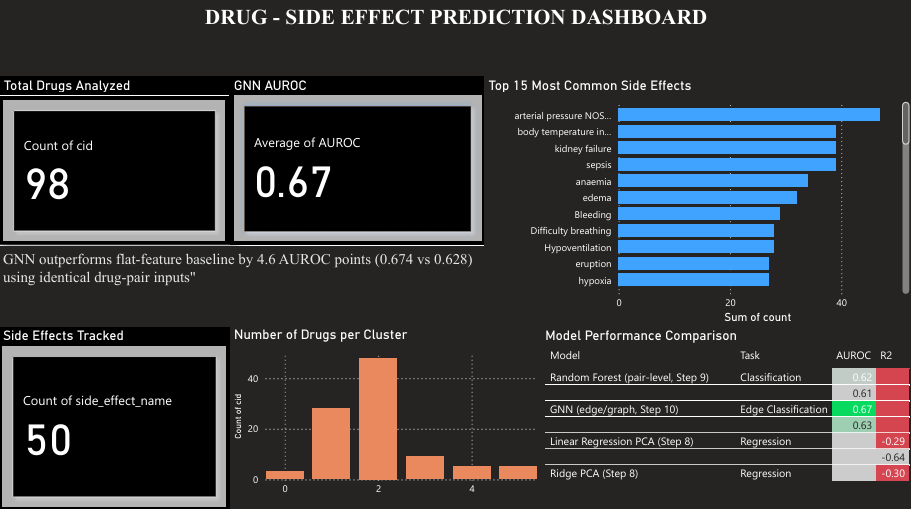

The dashboard page shown, as its layout file describes it:
{"tool":"powerbi","page":{"name":"Page 1","canvas":[1280,720],"ordinal":0},"visuals":[{"type":"cardVisual","title":"Total Drugs Analyzed","fields":{"Data":["Count(Drug_Clusters.cid)"]},"box":[101,117,289,211],"z":0},{"type":"cardVisual","title":"Side Effects Tracked","fields":{"Data":["Count(Side_Effect_Frequency.side_effect_name)"]},"box":[100.8,430.6,289.4,229],"z":1000},{"type":"cardVisual","title":"GNN AUROC","fields":{"Data":["Avg(Model_Metrics.AUROC)"]},"box":[389.7,117.6,319.2,211.7],"z":2000},{"type":"clusteredBarChart","title":"Top 15 Most Common Side Effects","fields":{"Y":["Sum(Side_Effect_Frequency.count)"],"Category":["Side_Effect_Frequency.side_effect_name"]},"box":[708.5,118.1,535.7,312.5],"z":3000},{"type":"clusteredColumnChart","title":"Number of Drugs per Cluster","fields":{"Category":["Drug_Clusters.cluster"],"Y":["Count(Drug_Clusters.cid)"]},"box":[389.7,430,389.7,230.1],"z":4000},{"type":"tableEx","title":"Model Performance Comparison","fields":{"Values":["Model_Metrics.Model","Model_Metrics.Task","Sum(Model_Metrics.AUROC)","Sum(Model_Metrics.R2)"]},"box":[779,430.6,465.1,230.4],"z":5000},{"type":"textbox","box":[100.8,329.8,607.7,100.8],"z":6000},{"type":"textbox","box":[100.8,23,1143.4,93.6],"z":7000}]}

Visuals, with their boxes in screenshot pixels (x1, y1, x2, y2), scaled from the page's 1280x720 canvas onto the 911x509 screenshot:
"Total Drugs Analyzed" cardVisual: [72, 83, 278, 232]
"Side Effects Tracked" cardVisual: [72, 304, 278, 466]
"GNN AUROC" cardVisual: [277, 83, 505, 233]
"Top 15 Most Common Side Effects" clusteredBarChart: [504, 83, 886, 304]
"Number of Drugs per Cluster" clusteredColumnChart: [277, 304, 555, 467]
"Model Performance Comparison" tableEx: [554, 304, 885, 467]
textbox: [72, 233, 504, 304]
textbox: [72, 16, 886, 82]
